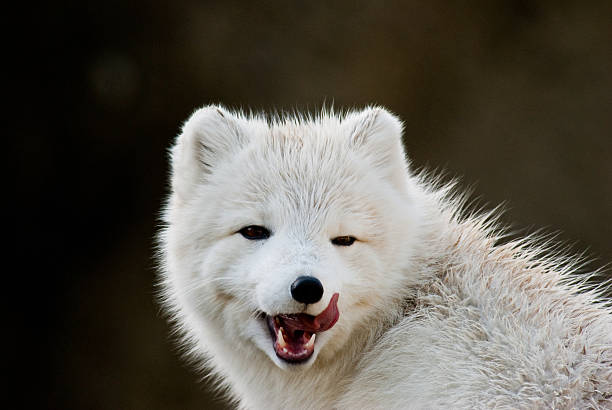arcticfox: (205, 160, 368, 369)
